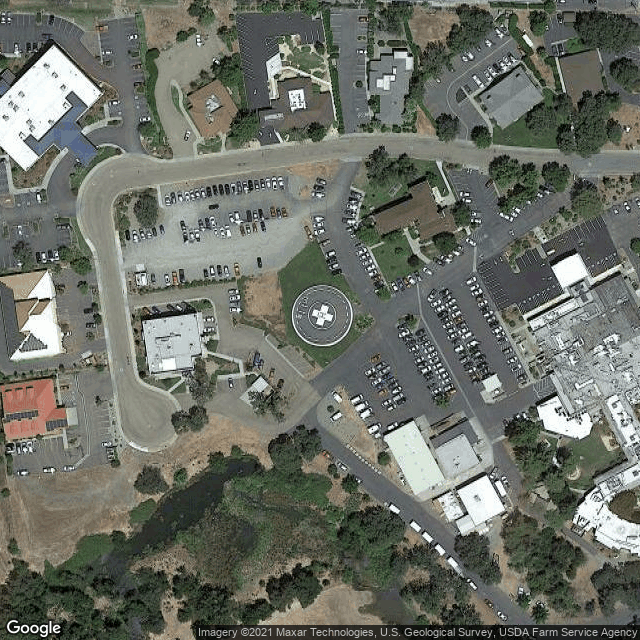Helipad: (287, 284, 359, 348)
